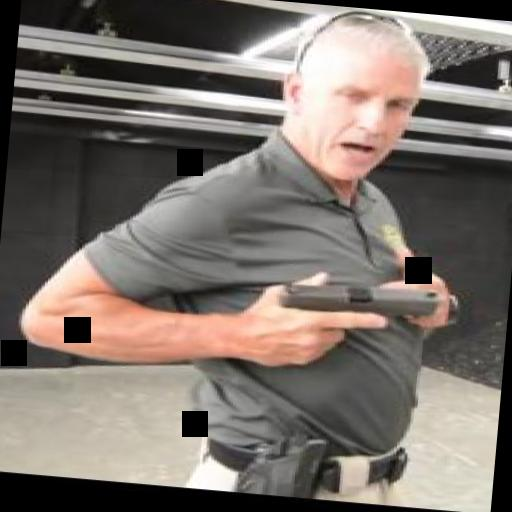Handgun: (260, 272, 448, 378)
